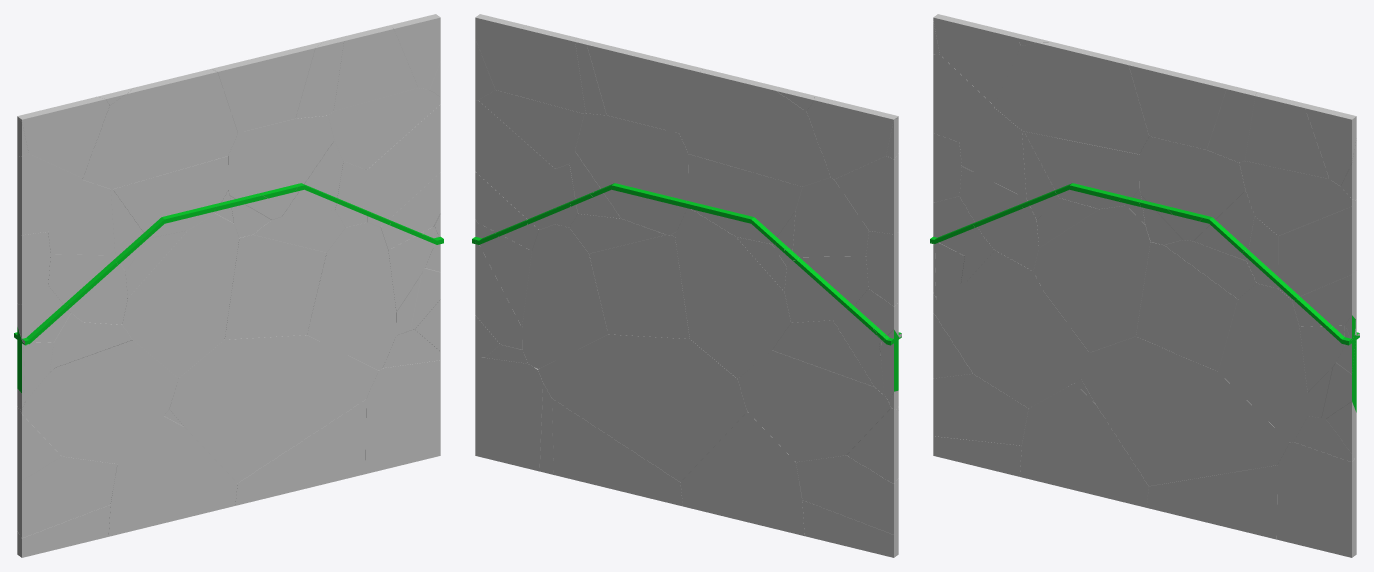
The model's file is HumanDoor-Shatter.fbx.
3 views of the same model, side by side, from view 1: azimuth 30°, elevation 25°; view 2: azimuth 150°, elevation 25°; view 3: azimuth 330°, elevation 25° (orthographic).
Parts seen in each view (by area): view 1: HumanDoor_cell.012, HumanDoor_cell.042, HumanDoor_cell.030, HumanDoor_cell.001, HumanDoor_cell, HumanDoor_cell.041, HumanDoor_cell.040, HumanDoor_cell.055, HumanDoor_cell.024, HumanDoor_cell.010, HumanDoor_cell.006, HumanDoor_cell.048 (+29 smaller); view 2: HumanDoor_cell.012, HumanDoor_cell.001, HumanDoor_cell.030, HumanDoor_cell.042, HumanDoor_cell.024, HumanDoor_cell, HumanDoor_cell.041, HumanDoor_cell.040, HumanDoor_cell.055, HumanDoor_cell.006, HumanDoor_cell.048, HumanDoor_cell.010 (+28 smaller); view 3: HumanDoor_cell.012, HumanDoor_cell.042, HumanDoor_cell.030, HumanDoor_cell.001, HumanDoor_cell, HumanDoor_cell.041, HumanDoor_cell.040, HumanDoor_cell.055, HumanDoor_cell.024, HumanDoor_cell.010, HumanDoor_cell.006, HumanDoor_cell.048 (+29 smaller).
Boxes of the visible parts, left/top/right/bottom form: HumanDoor_cell.012: left=169, top=335, right=378, bottom=482; HumanDoor_cell.042: left=20, top=340, right=178, bottom=463; HumanDoor_cell.030: left=82, top=69, right=237, bottom=189; HumanDoor_cell.001: left=122, top=213, right=239, bottom=378; HumanDoor_cell: left=108, top=416, right=237, bottom=536; HumanDoor_cell.041: left=307, top=222, right=396, bottom=370; HumanDoor_cell.040: left=224, top=234, right=326, bottom=339; HumanDoor_cell.055: left=365, top=360, right=440, bottom=473; HumanDoor_cell.024: left=228, top=115, right=334, bottom=219; HumanDoor_cell.010: left=235, top=399, right=366, bottom=505; HumanDoor_cell.006: left=211, top=41, right=323, bottom=132; HumanDoor_cell.048: left=113, top=156, right=228, bottom=238; HumanDoor_cell.012: left=538, top=334, right=747, bottom=481; HumanDoor_cell.001: left=675, top=208, right=790, bottom=378; HumanDoor_cell.030: left=679, top=68, right=830, bottom=186; HumanDoor_cell.042: left=737, top=350, right=898, bottom=462; HumanDoor_cell.024: left=575, top=113, right=688, bottom=234; HumanDoor_cell: left=680, top=412, right=804, bottom=535; HumanDoor_cell.041: left=522, top=224, right=607, bottom=368; HumanDoor_cell.040: left=589, top=235, right=689, bottom=338; HumanDoor_cell.055: left=475, top=357, right=553, bottom=471; HumanDoor_cell.006: left=587, top=44, right=702, bottom=133; HumanDoor_cell.048: left=685, top=154, right=802, bottom=244; HumanDoor_cell.010: left=552, top=398, right=682, bottom=506; HumanDoor_cell.012: left=1080, top=336, right=1289, bottom=486; HumanDoor_cell.042: left=933, top=282, right=1089, bottom=408; HumanDoor_cell.030: left=994, top=42, right=1149, bottom=154; HumanDoor_cell.001: left=1033, top=205, right=1150, bottom=352; HumanDoor_cell: left=1020, top=383, right=1148, bottom=507; HumanDoor_cell.041: left=1218, top=283, right=1307, bottom=442; HumanDoor_cell.040: left=1136, top=242, right=1237, bottom=371; HumanDoor_cell.055: left=1277, top=442, right=1356, bottom=557; HumanDoor_cell.024: left=1139, top=136, right=1245, bottom=241; HumanDoor_cell.010: left=1146, top=465, right=1277, bottom=539; HumanDoor_cell.006: left=1128, top=61, right=1244, bottom=149; HumanDoor_cell.048: left=1024, top=131, right=1139, bottom=208.
Size of the model in its own units: 1000 by 1000 by 45.91.
